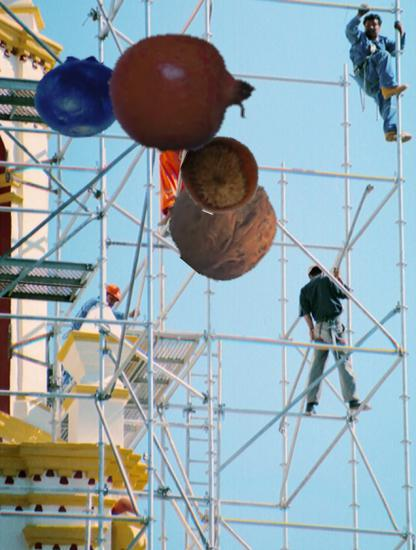Huckleberry: (34, 52, 123, 141)
Nut: (181, 136, 260, 215)
Pomegranate: (107, 19, 257, 169)
Walnut: (169, 168, 279, 278)
